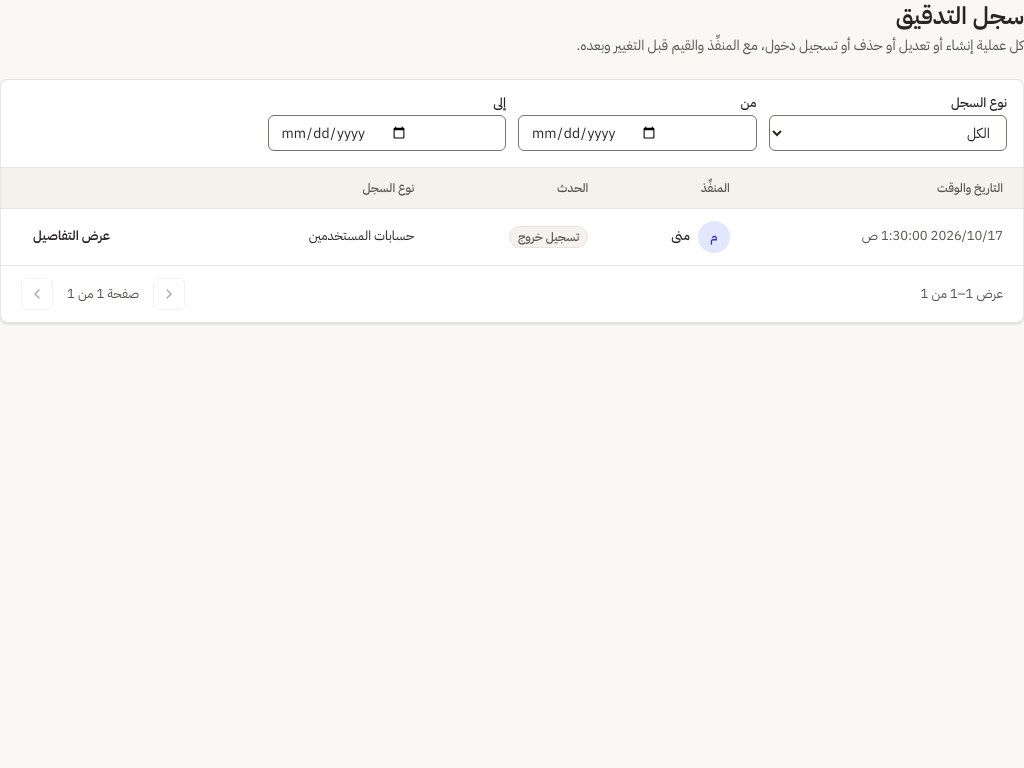
Test case: an entry with no values on either side still opens, with a dash in each section
Step 1. Click the button "عرض التفاصيل" → (72, 237), box [21,221,122,253]
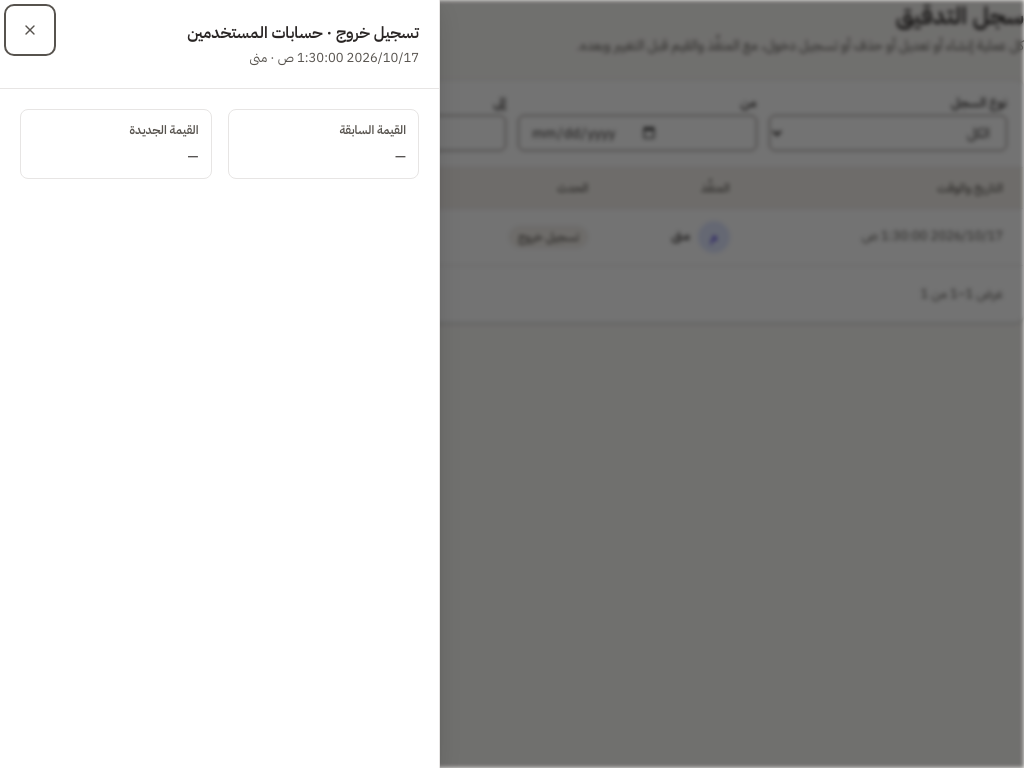
Check: the text "—" is shown 2 times, box [395,147,406,165]; [188,147,198,165]
